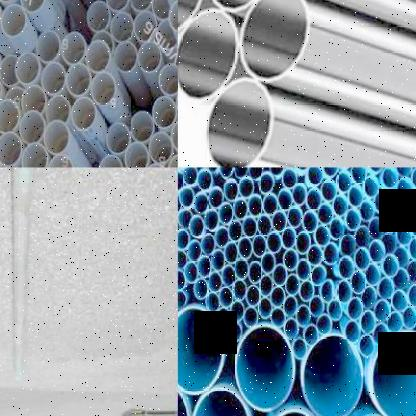pipe: (204, 76, 274, 167), (178, 6, 241, 102), (239, 0, 311, 83), (235, 322, 295, 411), (301, 332, 363, 416), (178, 305, 224, 394), (370, 330, 416, 416), (191, 387, 251, 416), (43, 120, 70, 155), (19, 110, 45, 144), (113, 40, 139, 74), (71, 96, 96, 131), (1, 3, 26, 38), (91, 72, 117, 105), (66, 63, 92, 96), (138, 39, 162, 74), (36, 30, 61, 63), (0, 131, 23, 166), (148, 132, 173, 164), (106, 122, 131, 154), (152, 96, 177, 128), (41, 62, 66, 94), (15, 52, 40, 84), (86, 40, 111, 72), (21, 84, 46, 115), (130, 111, 154, 143), (62, 33, 86, 65), (45, 95, 70, 124), (134, 12, 158, 42), (87, 1, 110, 32), (110, 13, 134, 42), (156, 20, 178, 51), (0, 99, 20, 133), (21, 142, 47, 168), (158, 63, 178, 96), (0, 54, 20, 86), (124, 142, 148, 168), (263, 408, 325, 416), (347, 297, 364, 320), (354, 247, 371, 270), (313, 224, 330, 247), (360, 310, 376, 334), (361, 286, 377, 310), (336, 280, 352, 304), (339, 256, 355, 280), (383, 253, 399, 277), (295, 230, 311, 254), (384, 208, 400, 232), (397, 176, 413, 200), (391, 290, 408, 312), (396, 223, 413, 245), (365, 263, 381, 286), (398, 200, 414, 223), (277, 188, 293, 211), (336, 170, 352, 193), (258, 274, 273, 298), (370, 238, 385, 262), (387, 312, 403, 334), (374, 300, 390, 322), (378, 277, 394, 299), (393, 267, 409, 289), (311, 264, 327, 286), (307, 244, 323, 266), (329, 218, 345, 240), (359, 200, 375, 222), (233, 198, 249, 220), (306, 188, 322, 210), (258, 172, 274, 194), (257, 297, 272, 320), (252, 235, 267, 258), (281, 226, 296, 249), (189, 214, 204, 237), (303, 210, 318, 233), (248, 194, 263, 217), (333, 194, 348, 217), (263, 193, 278, 216), (348, 184, 363, 207), (321, 179, 336, 202), (152, 0, 169, 20), (47, 154, 73, 167), (352, 270, 366, 294), (340, 235, 356, 256), (293, 182, 307, 206), (382, 167, 398, 188), (345, 321, 360, 343), (216, 306, 231, 328), (283, 296, 298, 318), (232, 279, 247, 301), (296, 258, 311, 280), (234, 258, 249, 280), (261, 252, 276, 274), (283, 249, 298, 271), (323, 242, 338, 264), (355, 225, 370, 247), (257, 214, 272, 236), (346, 208, 361, 230), (179, 186, 194, 208), (239, 176, 254, 198), (364, 175, 379, 197), (296, 304, 310, 327), (369, 217, 383, 240), (243, 215, 257, 238), (219, 201, 233, 224), (224, 178, 238, 201), (198, 168, 212, 191), (227, 323, 242, 344), (317, 314, 332, 335), (205, 292, 220, 313), (282, 167, 297, 188), (98, 154, 122, 167), (20, 0, 46, 12), (321, 279, 334, 303), (249, 260, 262, 284), (304, 324, 318, 346), (284, 318, 298, 340), (402, 306, 416, 328), (271, 286, 285, 308), (246, 285, 260, 307), (194, 278, 208, 300), (286, 274, 300, 296), (273, 264, 287, 286), (184, 262, 198, 284), (238, 238, 252, 260), (201, 233, 215, 255), (267, 231, 281, 253), (215, 226, 229, 248), (228, 220, 242, 242), (273, 210, 287, 232), (205, 208, 219, 230), (288, 206, 302, 228), (194, 192, 208, 214), (375, 190, 389, 212), (209, 186, 223, 208), (309, 296, 324, 316), (212, 249, 225, 272), (168, 0, 177, 33), (244, 306, 258, 327), (230, 301, 244, 322), (328, 300, 342, 321), (300, 280, 314, 301), (394, 246, 408, 267), (318, 203, 332, 224), (222, 264, 235, 286), (198, 255, 211, 277), (225, 242, 238, 264), (271, 308, 285, 328), (219, 288, 233, 308), (208, 272, 222, 292), (178, 208, 192, 228), (188, 240, 201, 261), (170, 120, 178, 152), (351, 167, 367, 183), (307, 168, 322, 185), (183, 168, 198, 185), (106, 0, 129, 11), (129, 0, 153, 10), (178, 228, 189, 249), (406, 284, 416, 307), (407, 260, 416, 282), (407, 238, 416, 260), (249, 167, 263, 180), (178, 250, 187, 268), (178, 270, 186, 290), (233, 167, 247, 178), (395, 167, 412, 176), (178, 291, 186, 309), (323, 167, 339, 176), (219, 167, 233, 177), (410, 213, 416, 236), (269, 167, 284, 176), (178, 170, 183, 192), (412, 167, 416, 188), (413, 190, 416, 214), (0, 73, 2, 106), (178, 192, 181, 214), (205, 168, 219, 172)
